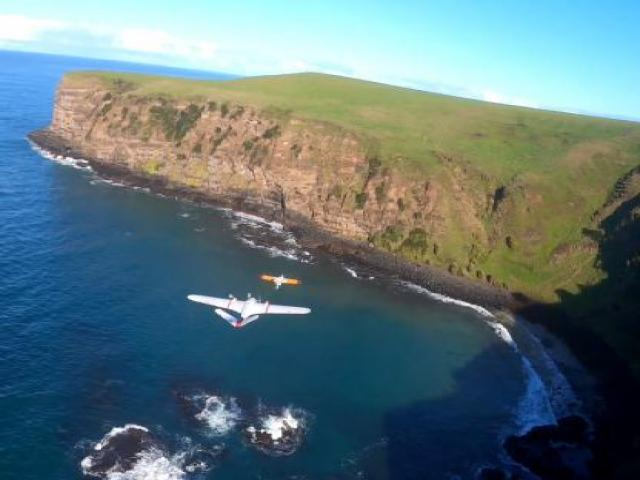uav: (187, 291, 311, 325), (256, 269, 302, 288)
